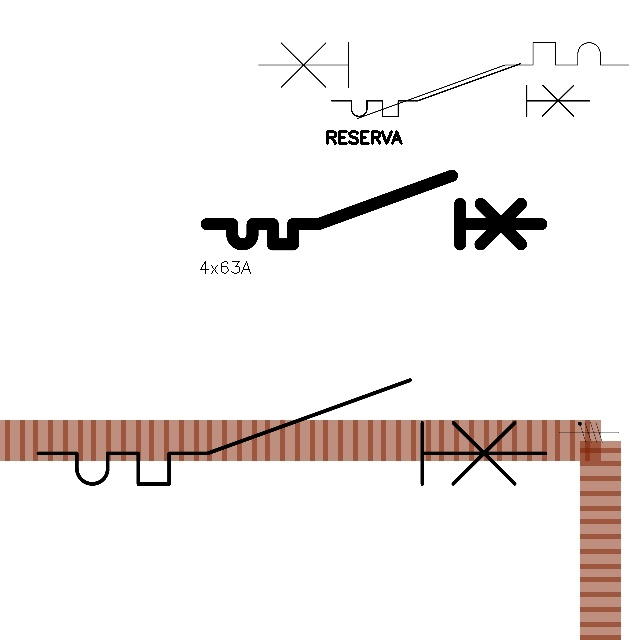interruptor_termomagnetico: (25, 367, 558, 497), (249, 33, 638, 128), (198, 167, 550, 253), (325, 57, 596, 123)
